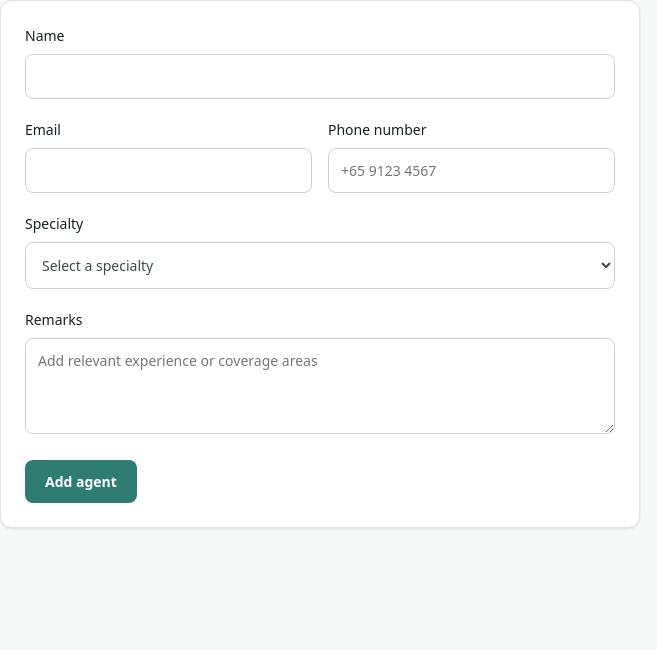
Test case: AgentForm validation › shows validation errors and focuses the first invalid field
Click the button "Add agent" at coordinates (81, 482), box [25,460,137,503]
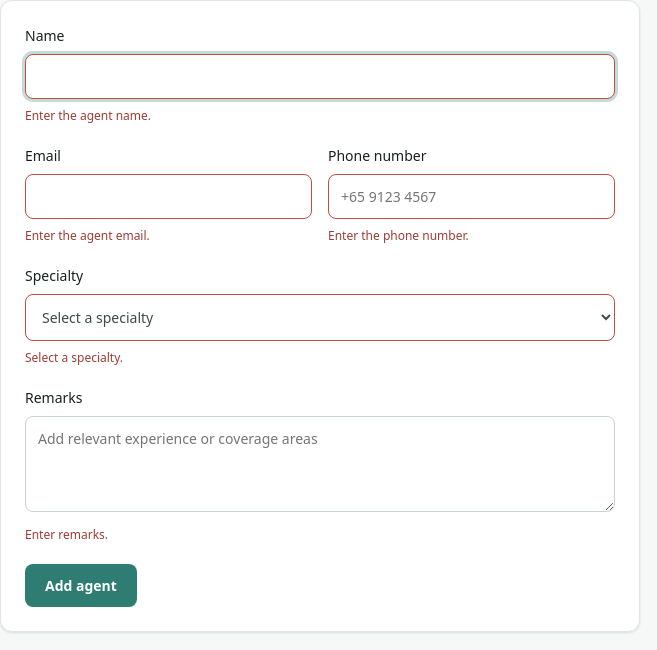
Result: the number of messages is 5 at [25,107,151,124]; [25,227,150,244]; [328,227,469,244]; [25,349,123,366]; [25,526,108,543]
